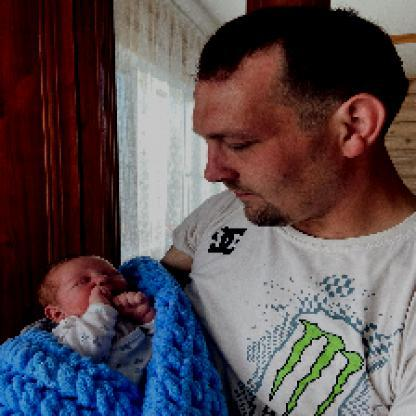child: (36, 254, 157, 390)
